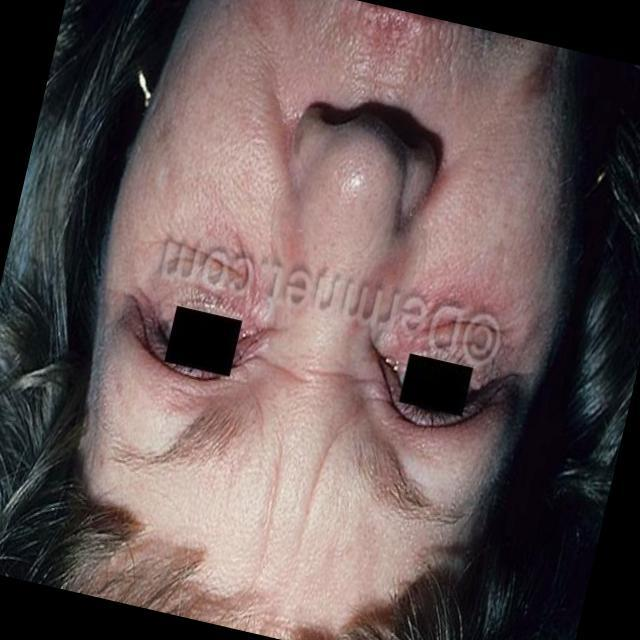Eczema: (390, 258, 518, 341), (196, 230, 284, 324)
